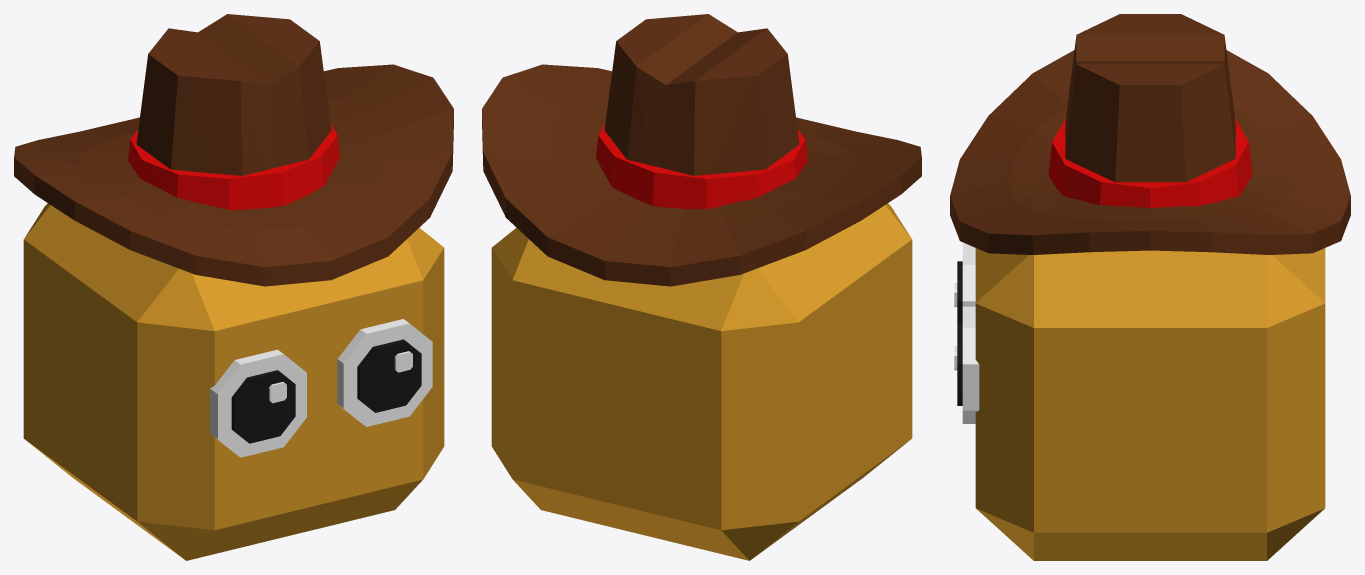
Rendered from Howdy.fbx.
3 renders of one model, left to right at view 1: azimuth 30°, elevation 25°; view 2: azimuth 150°, elevation 25°; view 3: azimuth 270°, elevation 25°, orthographic. The views are drawn at different scales.
Visible parts, largest first — view 1: Howdy, Howdy_Hat, Howdy_Eyes, Howdy_Band, Howdy_Pupils; view 2: Howdy, Howdy_Hat, Howdy_Band; view 3: Howdy, Howdy_Hat, Howdy_Band, Howdy_Eyes, Howdy_Pupils.
Part boxes in pixels (x1,y1,x2,y2): Howdy: (23,203,444,560); Howdy_Hat: (14,14,453,286); Howdy_Eyes: (210,319,432,457); Howdy_Band: (128,123,339,210); Howdy_Pupils: (231,339,421,443); Howdy: (491,203,912,560); Howdy_Hat: (482,14,921,286); Howdy_Band: (596,123,807,209); Howdy: (975,248,1325,560); Howdy_Hat: (950,14,1350,254); Howdy_Band: (1048,119,1252,207); Howdy_Eyes: (954,243,979,423); Howdy_Pupils: (957,261,962,405).
Size of the model in its own units: 2.6 by 2.78 by 2.2.
